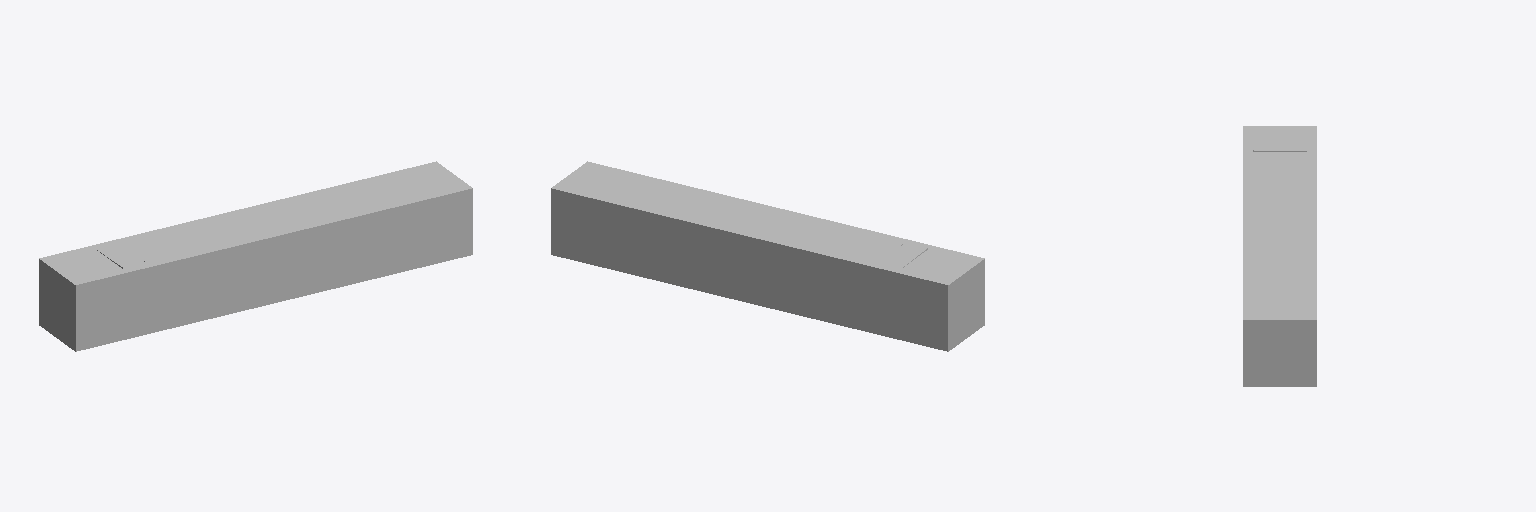
File: TLArmatuurEnBuis.obj
3 renders of one model, left to right at view 1: azimuth 30°, elevation 25°; view 2: azimuth 150°, elevation 25°; view 3: azimuth 270°, elevation 25°, orthographic.
Visible parts, largest first — view 1: Cube_Cube.001; view 2: Cube_Cube.001; view 3: Cube_Cube.001.
Part boxes in pixels (x1,y1,x2,y2): Cube_Cube.001: (39, 161, 472, 351); Cube_Cube.001: (551, 161, 984, 351); Cube_Cube.001: (1243, 126, 1316, 386).
Size of the model in its own units: 2.5 by 0.4082 by 0.4.